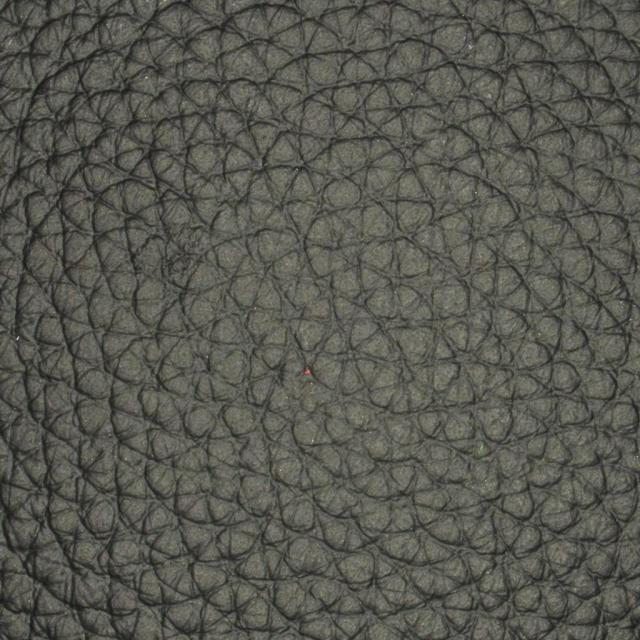Hole: (210, 300, 388, 448)
